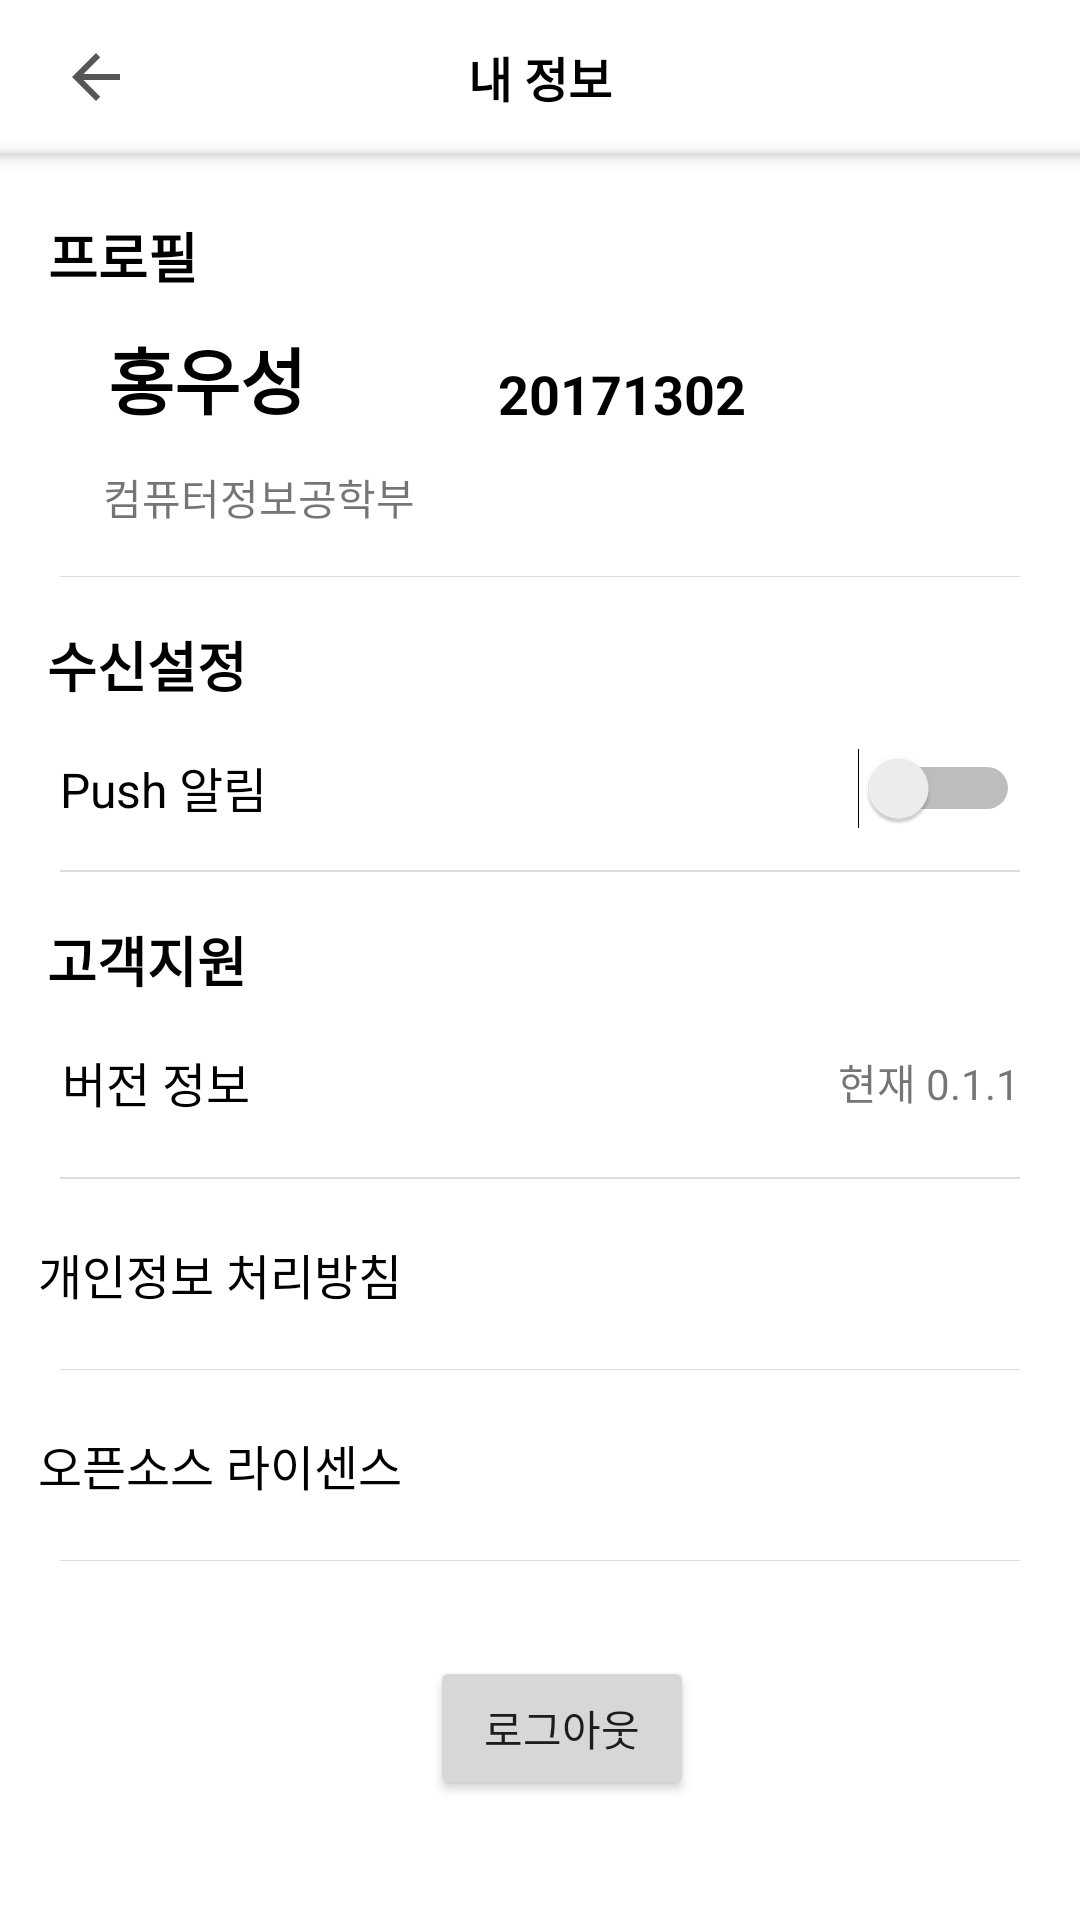

Icons on this 1080*1920 Android screen, each with its box as region(x1, y1, x2, y2):
arrow back: region(72, 53, 120, 101)
